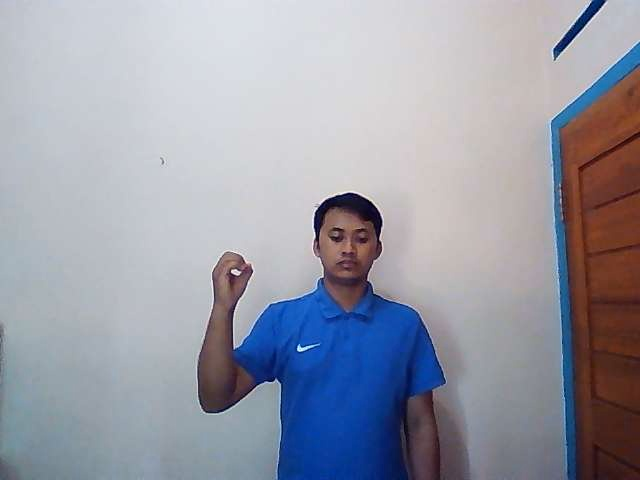O: (209, 250, 255, 307)
